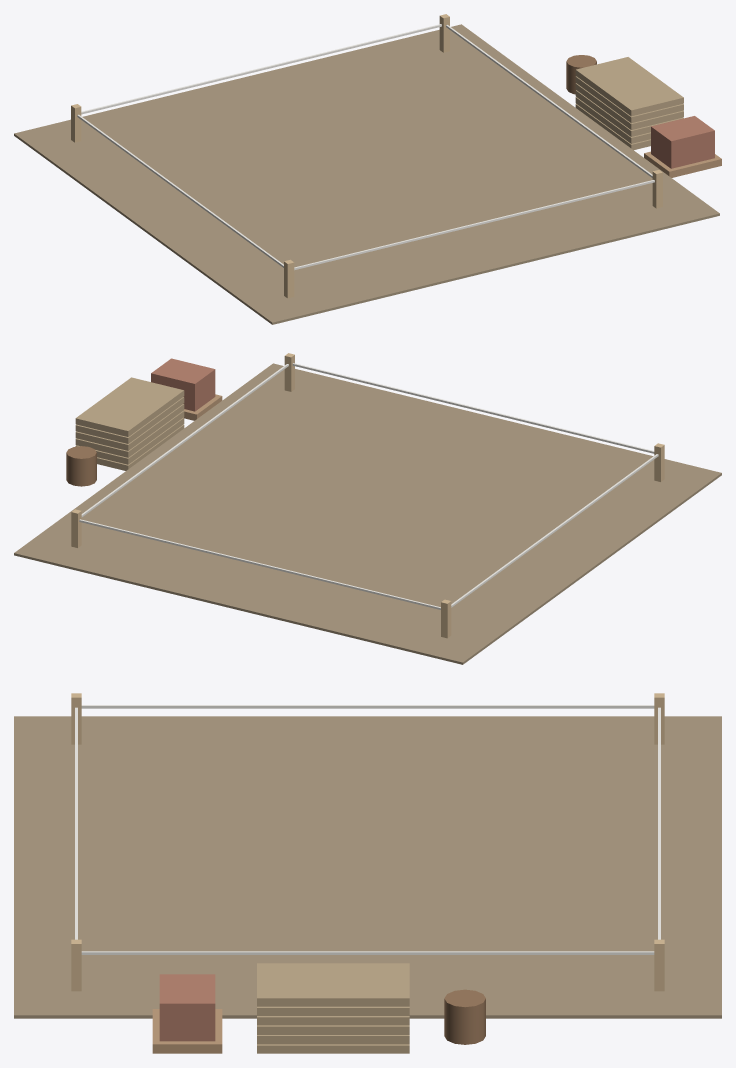
File: spa_site_0.glb
3 renders of one model, top to bottom at view 1: azimuth 30°, elevation 25°; view 2: azimuth 150°, elevation 25°; view 3: azimuth 270°, elevation 25°, orthographic. The views are drawn at different scales.
Visible parts, largest first — view 1: body; view 2: body; view 3: body.
Boxes of the visible parts, box(x1,y1,x2,y2) form: body: box(14, 14, 721, 324); body: box(14, 353, 721, 664); body: box(14, 693, 721, 1053).
Size of the model in its own units: 2.28 by 0.176 by 2.04.
